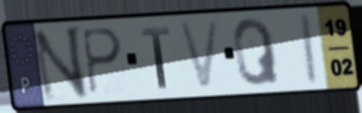I: (300, 10, 322, 88)
N: (29, 23, 91, 104)
P: (79, 26, 125, 98)
Q: (230, 16, 283, 88)
T: (139, 24, 172, 91)
V: (175, 17, 223, 93)
